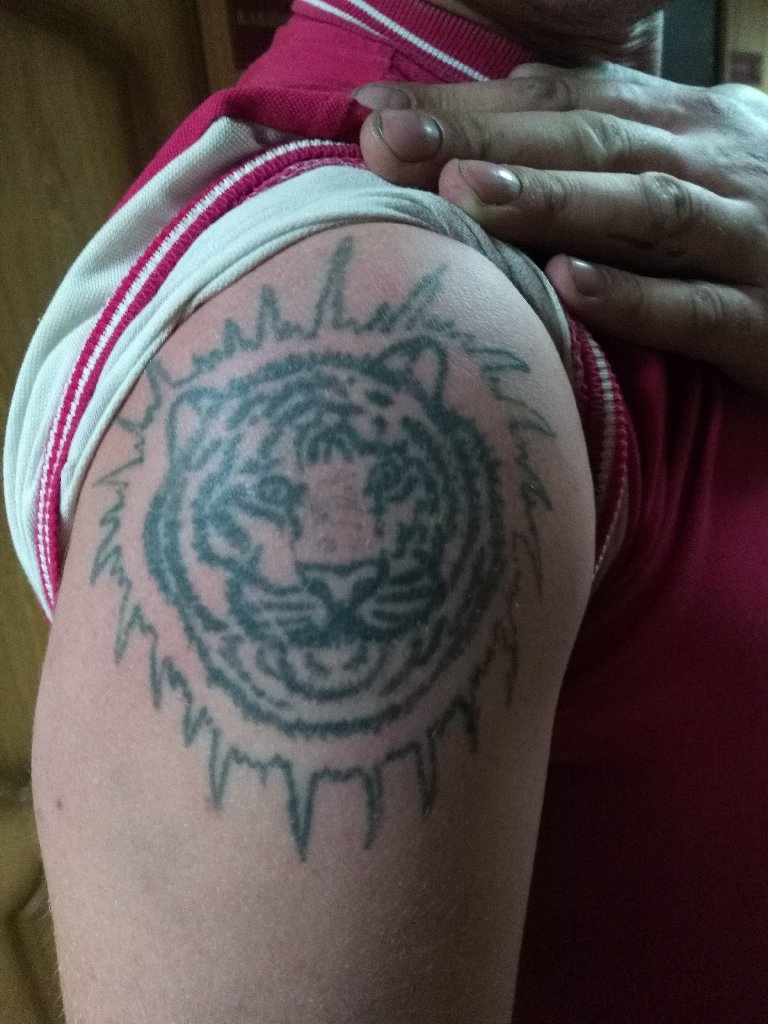tatu5_tigr: (75, 216, 591, 860)
